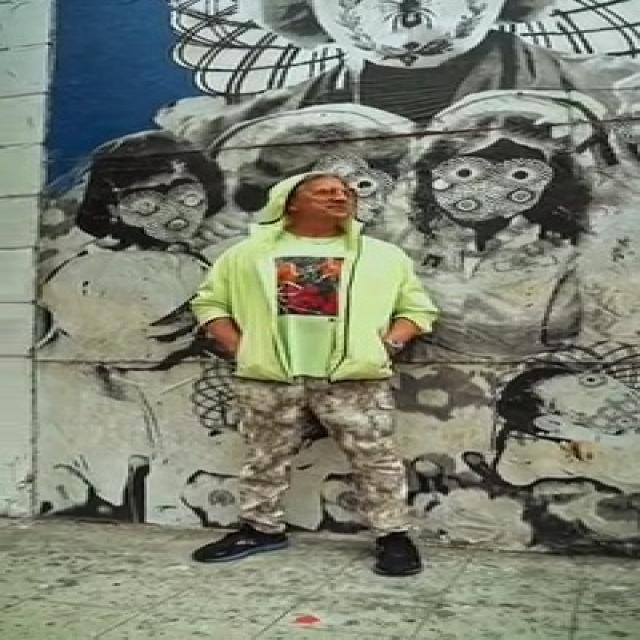Jacket_Wearer: (192, 233, 426, 381)
Person: (184, 163, 433, 536)
